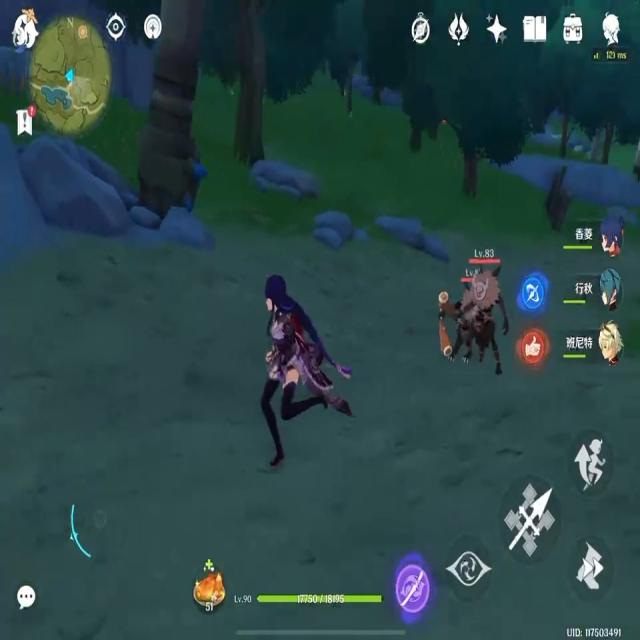genshin-hilichurls: (461, 260, 515, 369)
